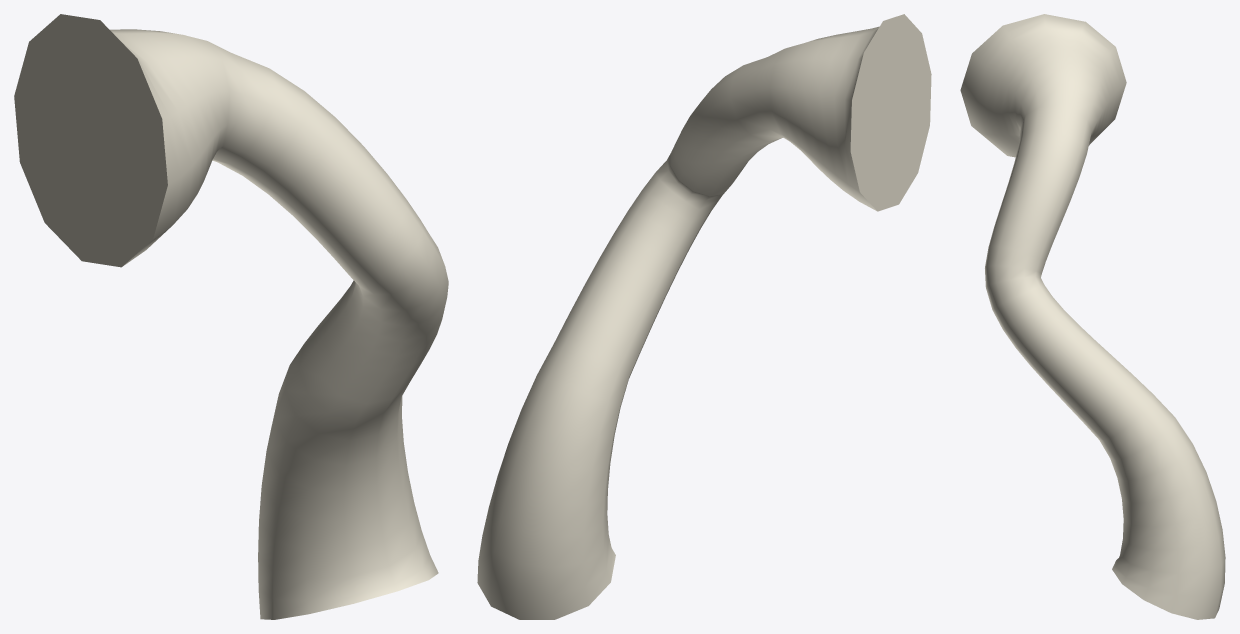
3 renders of one model, left to right at view 1: azimuth 30°, elevation 25°; view 2: azimuth 150°, elevation 25°; view 3: azimuth 270°, elevation 25°, orthographic. The views are drawn at different scales.
Parts seen in each view (by area): view 1: ZA_07d09c74bf845377; view 2: ZA_07d09c74bf845377; view 3: ZA_07d09c74bf845377.
Boxes of the visible parts, x1,y1,x2,y2 form: ZA_07d09c74bf845377: [14, 14, 448, 619]; ZA_07d09c74bf845377: [477, 14, 931, 619]; ZA_07d09c74bf845377: [960, 14, 1225, 619].
Bounding box in the file's own units: 0.0233 × 0.0379 × 0.0186.
